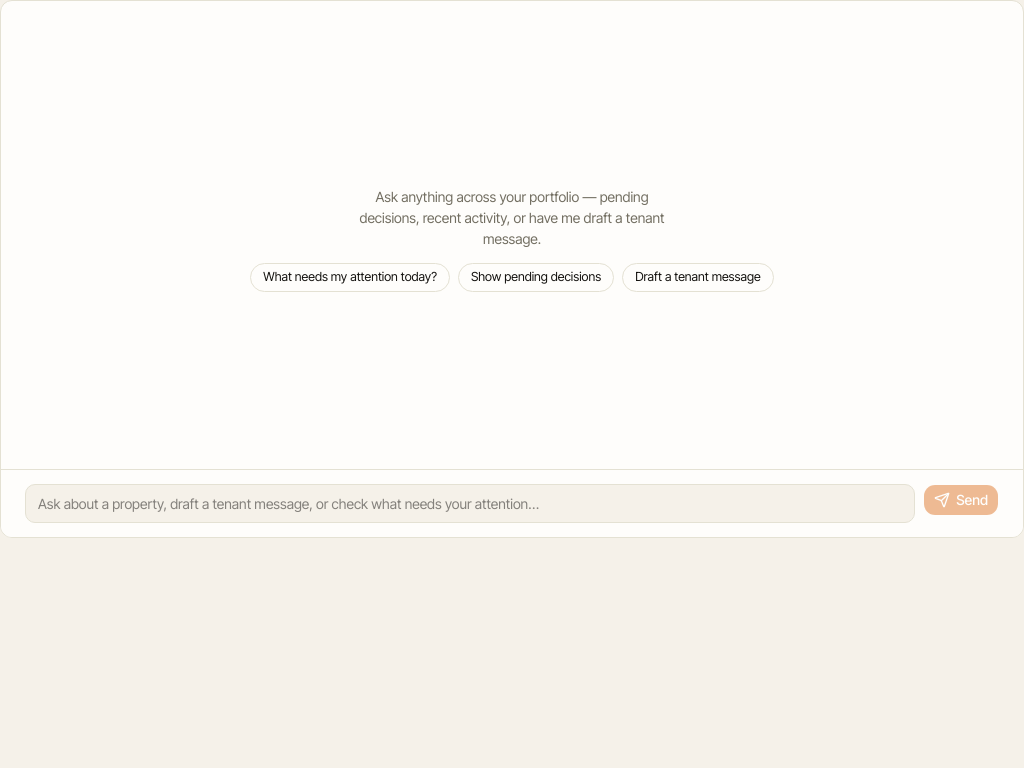
Test: ChatPanel — SSE reducer › appends a streamed assistant message from say.delta + done frames
Replace the text in the text box with test id "chat-panel-input" with "what is rent status?" at (470, 503), box 25,484 -> 915,523
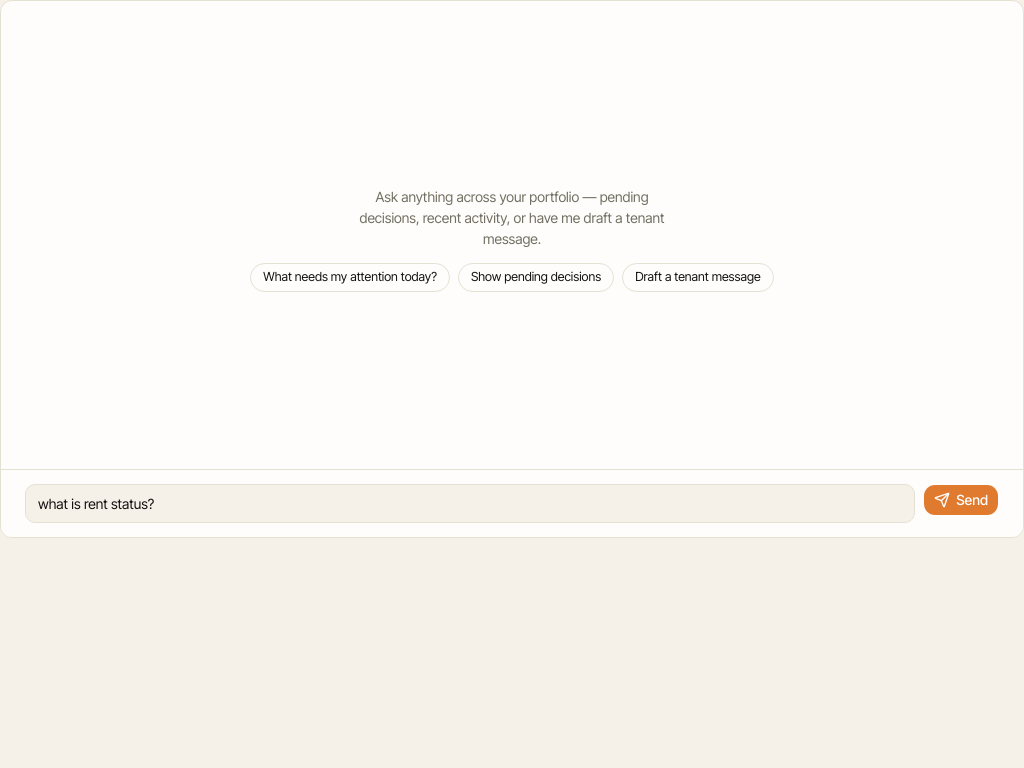
Submit the form with test id "chat-panel-form", box 1,469 -> 1023,537
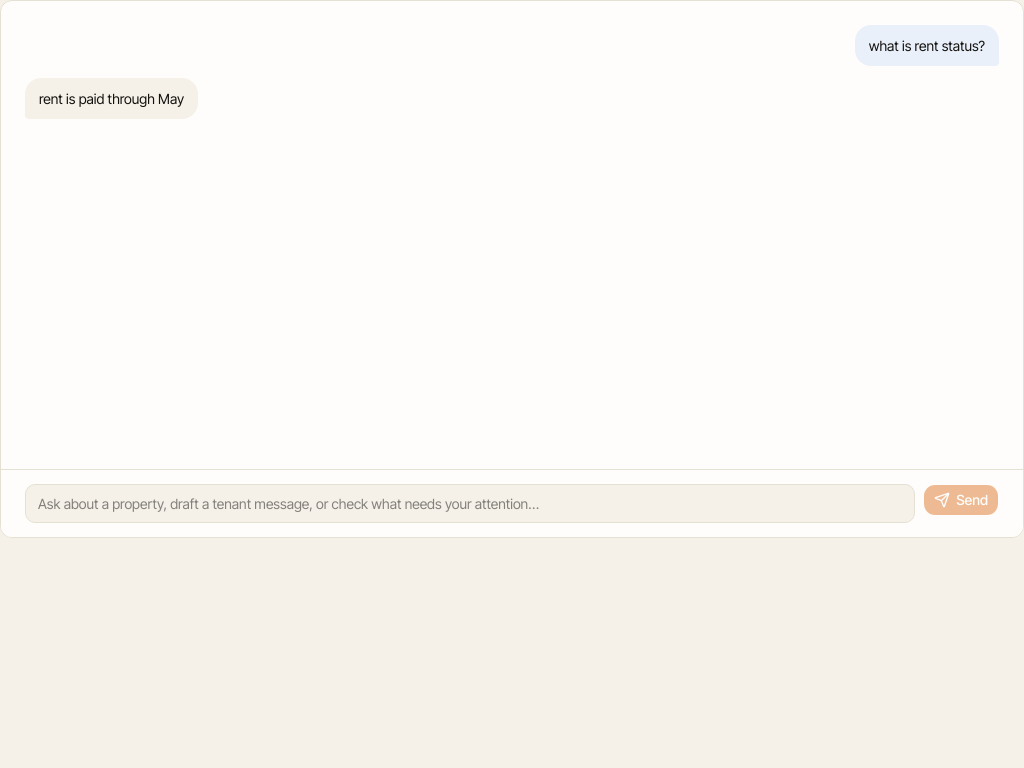
Check: the text "what is rent status?" is shown, box 855,25 -> 999,66
Check: the text with test id "chat-message-assistant" reads "rent is paid through May", box 39,90 -> 184,107
